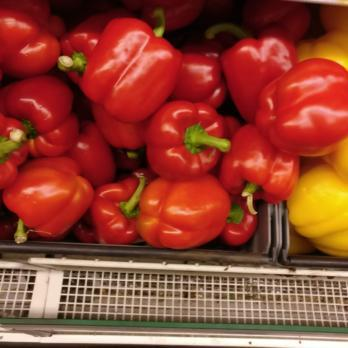Capsicum: (1, 2, 348, 242)
